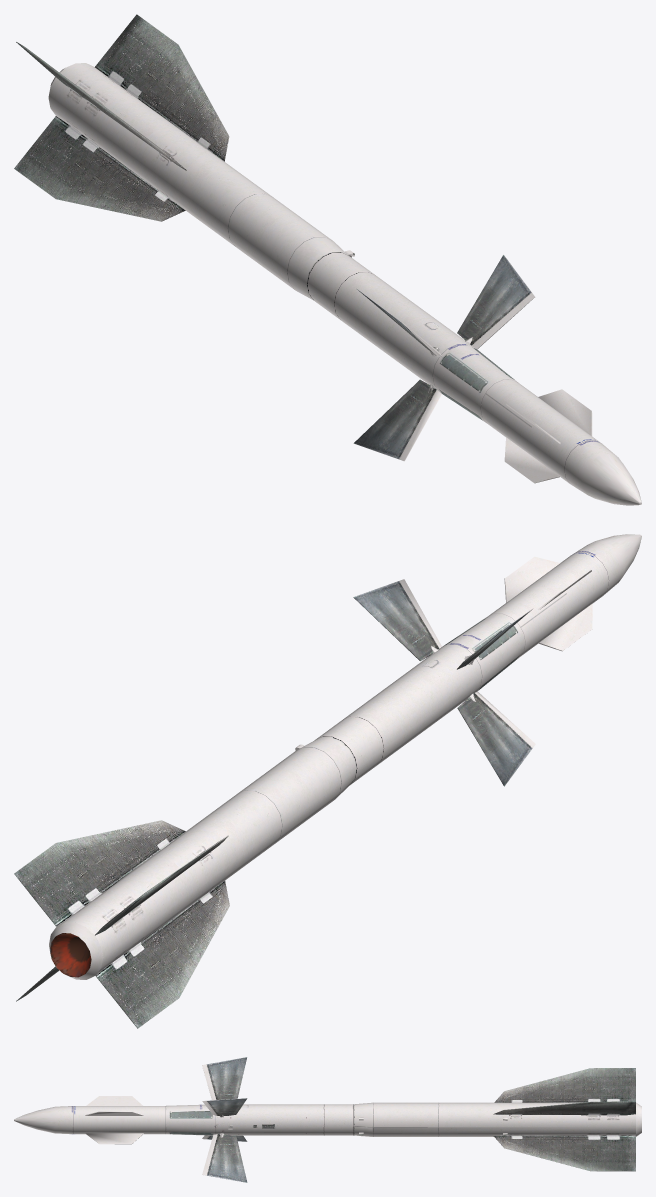
The model's file is Rocket1.fbx.
The picture shows the model from 3 angles, top to bottom: view 1: azimuth 30°, elevation 25°; view 2: azimuth 150°, elevation 25°; view 3: azimuth 270°, elevation 25°; orthographic projection. The views are drawn at different scales.
Parts seen in each view (by area): view 1: Rocket1; view 2: Rocket1; view 3: Rocket1.
Part boxes in pixels (<box>): Rocket1: <box>14,14,641,505</box>; Rocket1: <box>14,534,641,1028</box>; Rocket1: <box>14,1057,641,1182</box>.
Bounding box in the file's own units: 50.12 × 50.12 × 328.
Materials: 1 (1 with a texture image).
